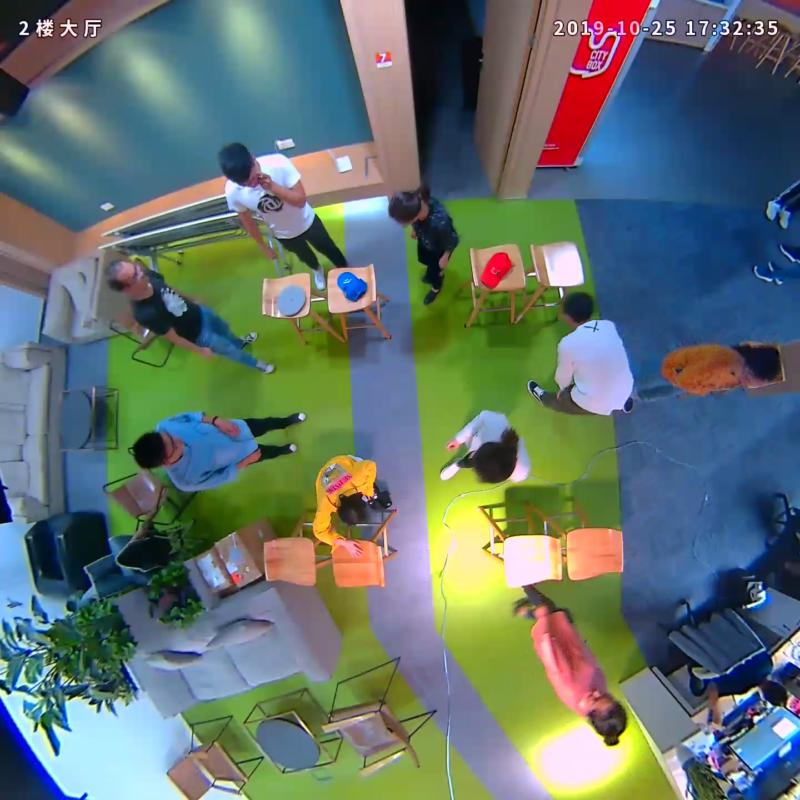head: (573, 686, 633, 751), (211, 139, 270, 191), (123, 429, 186, 475), (466, 434, 519, 485), (738, 342, 787, 390), (96, 260, 153, 301), (383, 186, 430, 230), (553, 289, 604, 328), (325, 496, 380, 532)
